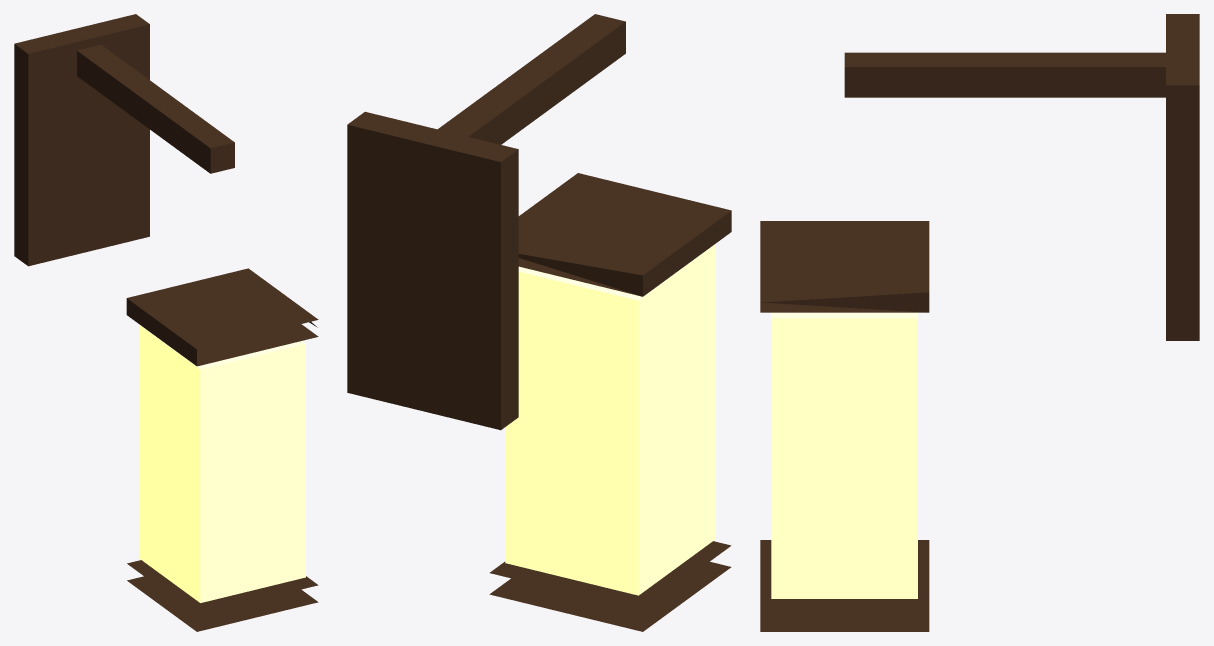
The model's file is prop_eave_lamp_lod1.glb.
3 views of the same model, side by side, from view 1: azimuth 30°, elevation 25°; view 2: azimuth 150°, elevation 25°; view 3: azimuth 270°, elevation 25° (orthographic). The views are drawn at different scales.
Visible parts, largest first — view 1: prop_eave_lamp_lod1; view 2: prop_eave_lamp_lod1; view 3: prop_eave_lamp_lod1.
Boxes of the visible parts, x1,y1,x2,y2 form: prop_eave_lamp_lod1: (14,14,318,631); prop_eave_lamp_lod1: (347,14,731,631); prop_eave_lamp_lod1: (760,14,1199,631).
Bounding box in the file's own units: 0.3 × 1.07 × 0.78.
